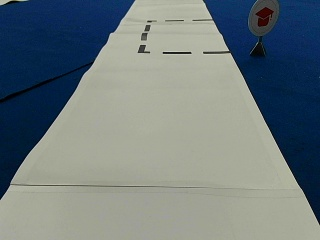school: (247, 1, 279, 34)
